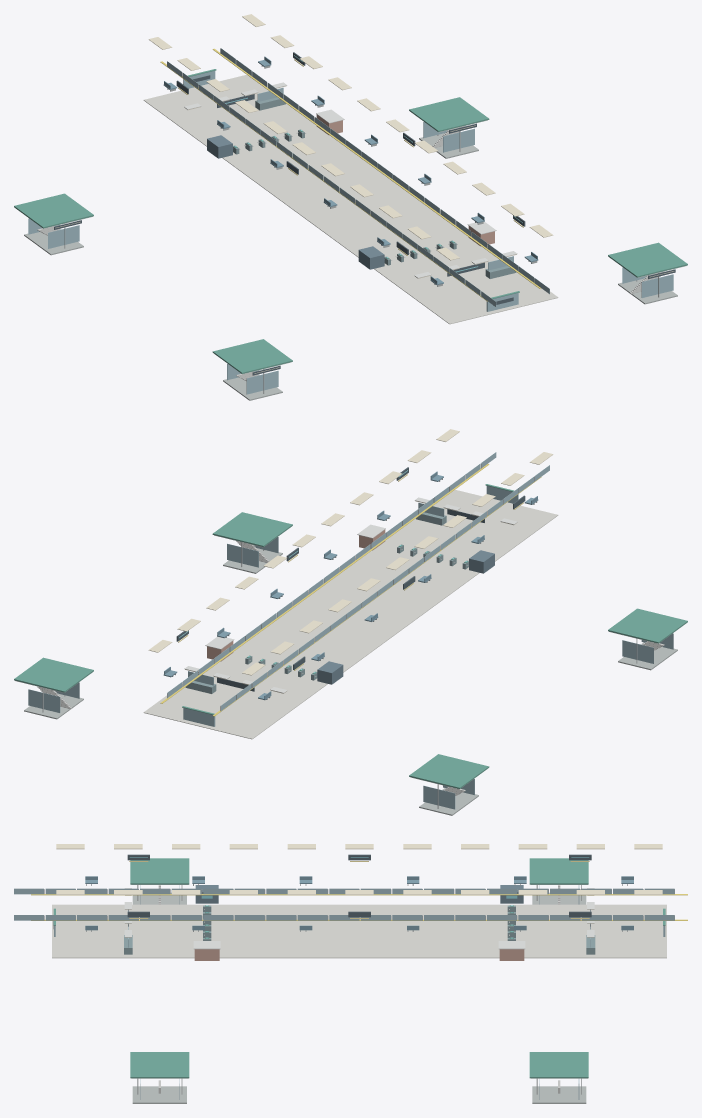
3 views of the same model, one above another, from view 1: azimuth 30°, elevation 25°; view 2: azimuth 150°, elevation 25°; view 3: azimuth 270°, elevation 25° (orthographic).
Parts seen in each view (by area): view 1: Station interior and street-level illustrative furniture; view 2: Station interior and street-level illustrative furniture; view 3: Station interior and street-level illustrative furniture.
Boxes of the visible parts, x1,y1,x2,y2 form: Station interior and street-level illustrative furniture: (14, 14, 687, 400); Station interior and street-level illustrative furniture: (14, 429, 687, 815); Station interior and street-level illustrative furniture: (14, 844, 687, 1103).
Size of the model in its own units: 98.4 by 27.2 by 128.
